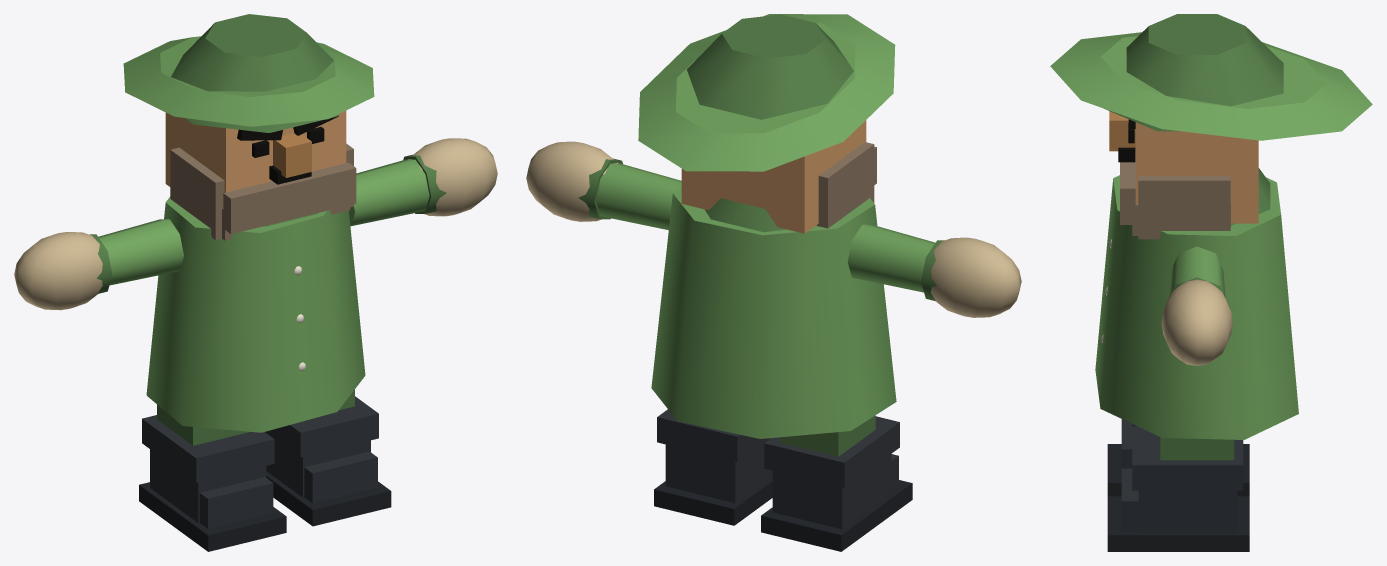
Rendered from pescador.glb.
The picture shows the model from 3 angles, left to right: view 1: azimuth 30°, elevation 25°; view 2: azimuth 150°, elevation 25°; view 3: azimuth 270°, elevation 25°; orthographic projection. The views are drawn at different scales.
Parts seen in each view (by area): view 1: chubasquero_cuerpo, ala, copa, craneo, palma_L, barba_frente, bota_vuelta_L, palma_R, brazo_geo_L, brazo_geo_R, bota_vuelta_R, bota_suela_L (+9 smaller); view 2: chubasquero_cuerpo, ala, copa, craneo, palma_L, bota_cana_L, palma_R, bota_vuelta_L, bota_cana_R, brazo_geo_L, brazo_geo_R, bota_suela_L (+6 smaller); view 3: chubasquero_cuerpo, ala, copa, craneo, barba_lado_R, palma_R, bota_vuelta_R, bota_cana_R, bota_suela_R, pierna_geo_R, brazo_geo_R, bota_suela_L (+5 smaller).
Part boxes in pixels (left/top/right/bottom): chubasquero_cuerpo: left=146, top=196, right=365, bottom=432; ala: left=123, top=36, right=374, bottom=126; copa: left=171, top=14, right=338, bottom=132; craneo: left=165, top=110, right=346, bottom=192; palma_L: left=14, top=232, right=102, bottom=310; barba_frente: left=223, top=162, right=356, bottom=233; bota_vuelta_L: left=142, top=415, right=274, bottom=482; palma_R: left=407, top=138, right=497, bottom=216; brazo_geo_L: left=98, top=219, right=183, bottom=285; brazo_geo_R: left=349, top=159, right=429, bottom=226; bota_vuelta_R: left=266, top=396, right=378, bottom=457; bota_suela_L: left=139, top=482, right=286, bottom=551; chubasquero_cuerpo: left=651, top=188, right=896, bottom=438; ala: left=638, top=14, right=895, bottom=171; copa: left=687, top=14, right=853, bottom=119; craneo: left=681, top=120, right=866, bottom=233; palma_L: left=931, top=237, right=1021, bottom=317; bota_cana_L: left=772, top=454, right=891, bottom=529; palma_R: left=526, top=141, right=618, bottom=221; bota_vuelta_L: left=764, top=416, right=899, bottom=487; bota_cana_R: left=665, top=438, right=772, bottom=502; brazo_geo_L: left=847, top=224, right=935, bottom=292; brazo_geo_R: left=596, top=163, right=681, bottom=229; bota_suela_L: left=761, top=480, right=912, bottom=551; chubasquero_cuerpo: left=1095, top=175, right=1298, bottom=439; ala: left=1050, top=32, right=1372, bottom=140; copa: left=1104, top=14, right=1283, bottom=131; craneo: left=1135, top=122, right=1258, bottom=223; barba_lado_R: left=1138, top=176, right=1230, bottom=239; palma_R: left=1161, top=279, right=1232, bottom=366; bota_vuelta_R: left=1132, top=426, right=1243, bottom=490; bota_cana_R: left=1138, top=490, right=1237, bottom=532; bota_suela_R: left=1107, top=496, right=1249, bottom=551; pierna_geo_R: left=1160, top=437, right=1234, bottom=460; brazo_geo_R: left=1169, top=246, right=1225, bottom=297; bota_suela_L: left=1107, top=444, right=1249, bottom=496.
Size of the model in its own units: 1.83 by 1.69 by 1.05.
